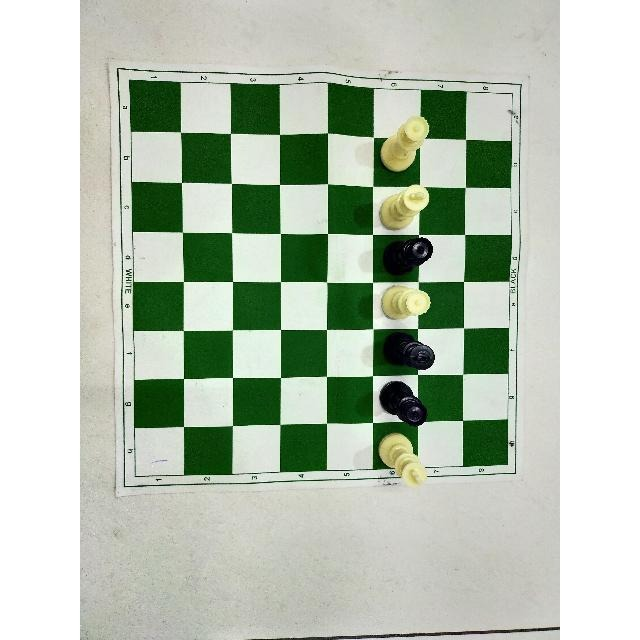black-king: (377, 325, 443, 373), (380, 329, 435, 370)
black-queen: (377, 375, 433, 432), (373, 234, 442, 276), (378, 378, 427, 427), (383, 237, 435, 275)
white-king: (372, 428, 438, 490), (375, 175, 437, 235), (377, 432, 433, 490), (379, 180, 433, 232)
white-queen: (374, 108, 435, 174), (375, 112, 434, 174), (373, 276, 443, 319), (378, 282, 439, 319)
